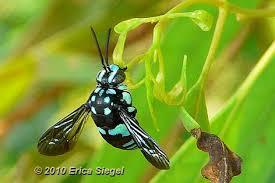Thyreus: (34, 27, 179, 174)
